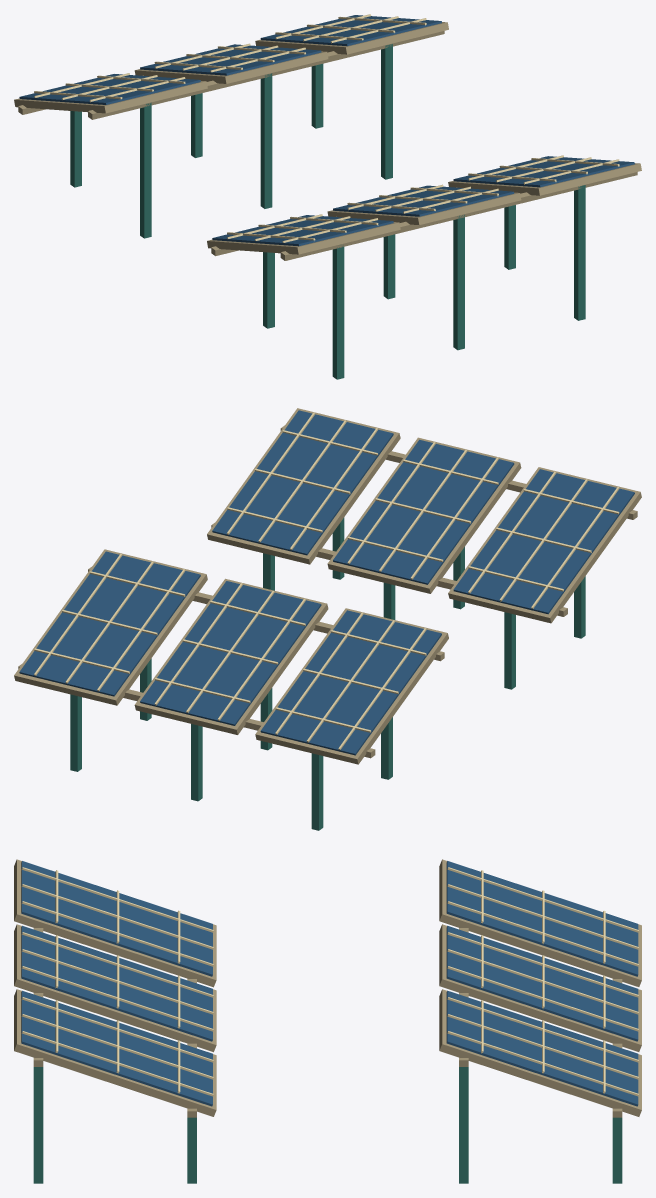
File: connected-solar-farm.glb
3 views of the same model, one above another, from view 1: azimuth 30°, elevation 25°; view 2: azimuth 150°, elevation 25°; view 3: azimuth 270°, elevation 25° (orthographic). The views are drawn at different scales.
Parts seen in each view (by area): view 1: solar_farm; view 2: solar_farm; view 3: solar_farm.
Part boxes in pixels (box(x1,y1,x2,y2)): solar_farm: box(14, 14, 641, 379); solar_farm: box(14, 408, 641, 830); solar_farm: box(14, 859, 641, 1183).
Size of the model in its own units: 3.8 by 1.56 by 5.31.
